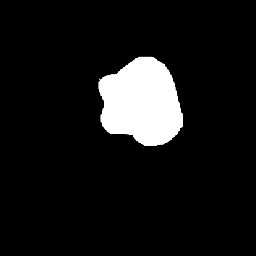mass: (104, 56, 182, 139)
